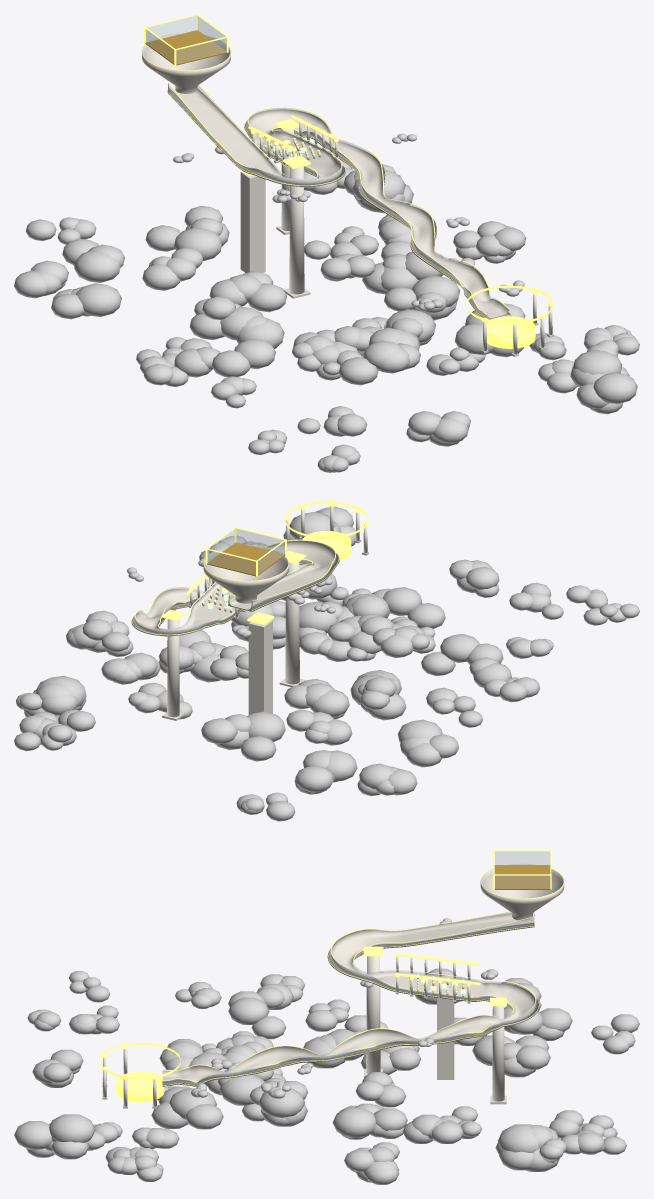
Rendered from zeus.glb.
The picture shows the model from 3 angles, top to bottom: view 1: azimuth 30°, elevation 25°; view 2: azimuth 150°, elevation 25°; view 3: azimuth 270°, elevation 25°; orthographic projection. The views are drawn at different scales.
Parts seen in each view (by area): view 1: ZS_Track, ZS_CloudSea1, ZS_CloudSea38, ZS_Plinth, ZS_CloudSea17, ZS_CloudSea0, ZS_CloudSea7, ZS_Funnel, ZS_CloudSea45, ZS_CloudSea18, ZS_CloudSea6, ZS_CloudSea4 (+32 smaller); view 2: ZS_Track, ZS_CloudSea1, ZS_CloudSea38, ZS_Plinth, ZS_CloudSea4, ZS_Funnel, ZS_CloudSea6, ZS_CloudSea14, ZS_CloudSea45, ZS_CloudSea7, ZS_CloudSea13, ZS_CloudSea20 (+37 smaller); view 3: ZS_Track, ZS_CloudSea17, ZS_CloudSea38, ZS_CloudSea24, ZS_CloudSea1, ZS_CloudSea35, ZS_Funnel, ZS_CloudSea18, ZS_CloudSea14, ZS_CloudSea6, ZS_GATE, ZS_CloudSea44 (+32 smaller).
Part boxes in pixels (x1,y1,x2,y2): ZS_Track: (167, 83, 509, 319); ZS_CloudSea1: (145, 205, 229, 261); ZS_CloudSea38: (174, 338, 275, 377); ZS_Plinth: (240, 171, 265, 272); ZS_CloudSea17: (570, 350, 637, 404); ZS_CloudSea0: (189, 306, 284, 348); ZS_CloudSea7: (339, 340, 420, 385); ZS_Funnel: (142, 33, 230, 93); ZS_CloudSea45: (209, 271, 286, 312); ZS_CloudSea18: (384, 275, 460, 320); ZS_CloudSea6: (62, 238, 124, 282); ZS_CloudSea4: (51, 283, 121, 319); ZS_Track: (131, 539, 339, 636); ZS_CloudSea1: (201, 711, 285, 761); ZS_CloudSea38: (421, 633, 512, 687); ZS_Plinth: (248, 620, 272, 714); ZS_CloudSea4: (397, 719, 458, 767); ZS_Funnel: (203, 545, 288, 603); ZS_CloudSea6: (294, 750, 357, 794); ZS_CloudSea14: (299, 593, 390, 633); ZS_CloudSea45: (284, 678, 349, 719); ZS_CloudSea7: (372, 587, 445, 628); ZS_CloudSea13: (286, 709, 352, 745); ZS_CloudSea20: (357, 763, 417, 796); ZS_Track: (162, 911, 539, 1086); ZS_CloudSea17: (14, 1114, 95, 1159); ZS_CloudSea38: (228, 984, 293, 1039); ZS_CloudSea24: (151, 1086, 223, 1129); ZS_CloudSea1: (472, 1035, 550, 1077); ZS_CloudSea35: (495, 1124, 559, 1171); ZS_Funnel: (480, 863, 564, 920); ZS_CloudSea18: (249, 1081, 308, 1126); ZS_CloudSea14: (188, 1052, 264, 1105); ZS_CloudSea6: (504, 1007, 572, 1040); ZS_GATE: (494, 865, 550, 889); ZS_CloudSea44: (402, 1114, 463, 1143).
Size of the model in its own units: 197 by 100 by 260.
